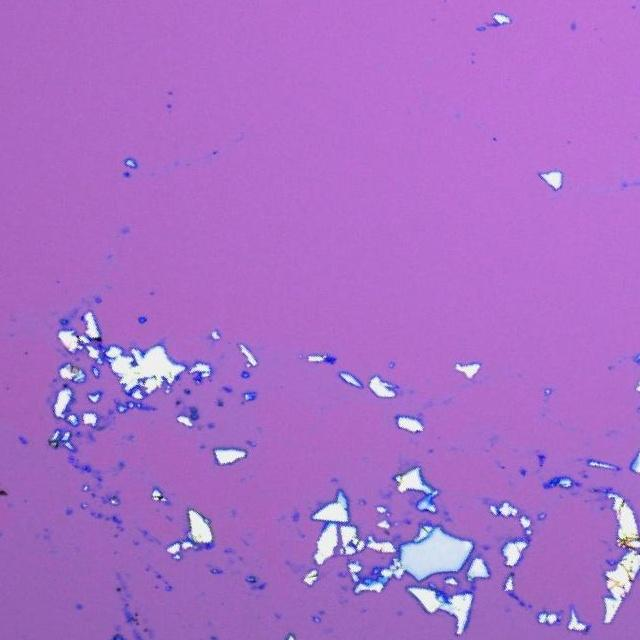monolayer-eWW4: (572, 22, 576, 31)
